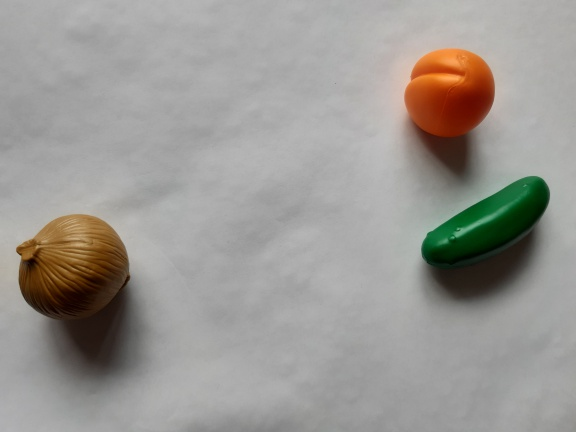apricot: (396, 42, 502, 146)
cucumber: (408, 171, 558, 268)
onion: (2, 208, 144, 326)
